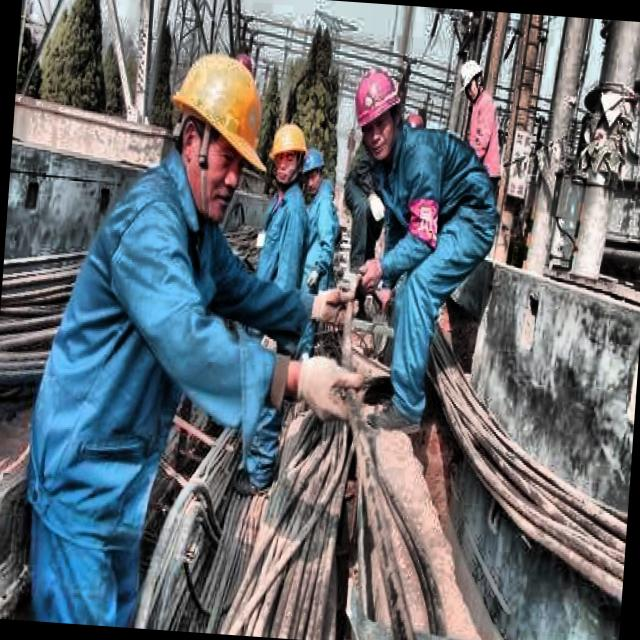helmet: (154, 40, 268, 218), (346, 64, 404, 162), (265, 119, 311, 193), (453, 52, 486, 108), (298, 142, 328, 198)
